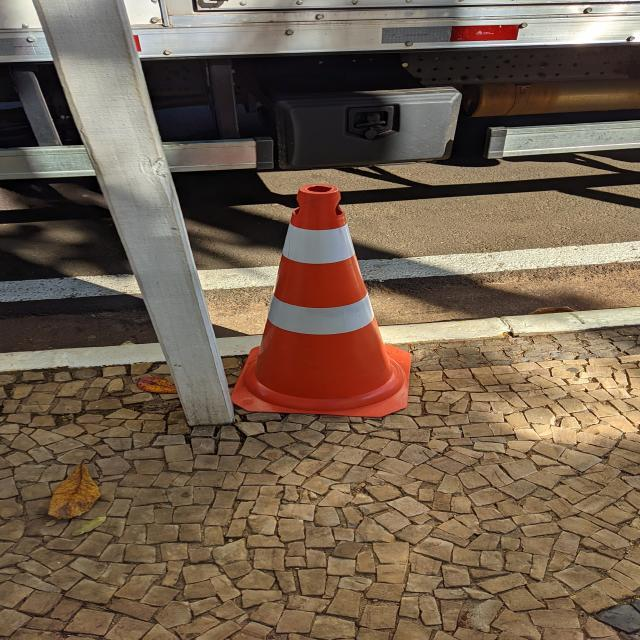Cone: (224, 180, 418, 420)
